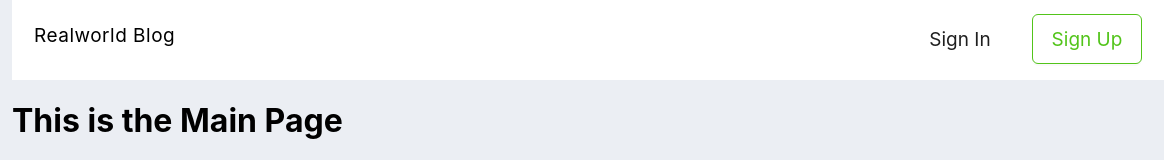
Scenario: Component: Header › should redirect to the Sign Up Page when sign up button is clicked
This screenshot has width=1164, height=160.
expect the heading "This is the Main Page" is shown: met, box [12, 101, 343, 140]
Click the button "Sign Up" at coordinates (1087, 39), box [1032, 14, 1142, 64]
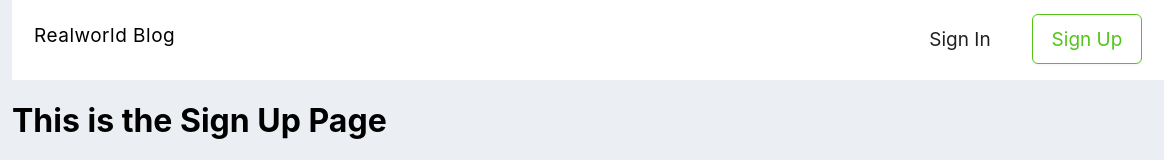
expect the heading "This is the Sign Up Page" is shown: met, box [12, 101, 387, 140]
